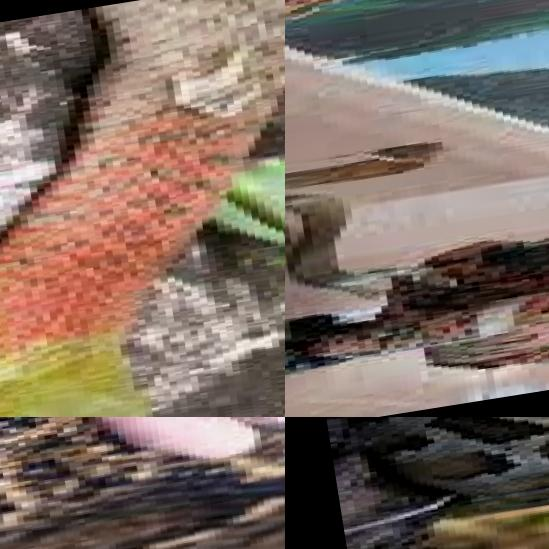snake: (0, 0, 285, 417), (0, 417, 285, 549), (285, 138, 483, 309), (285, 417, 549, 527)
